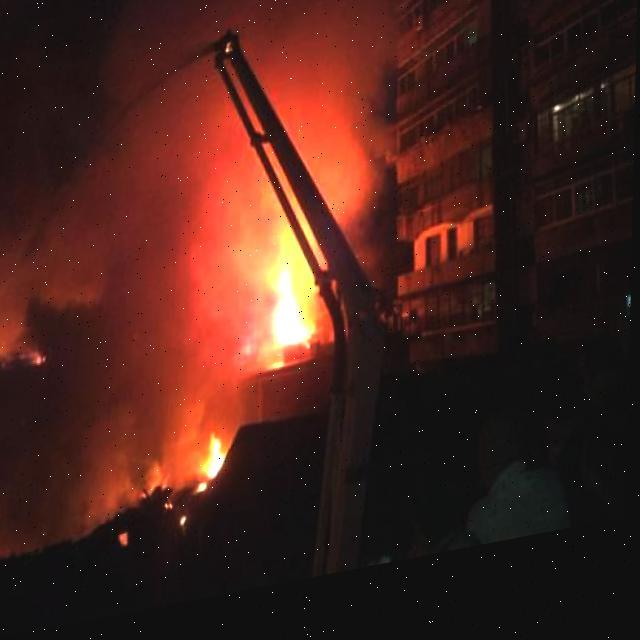Fire: (269, 265, 314, 369), (201, 432, 229, 496)
